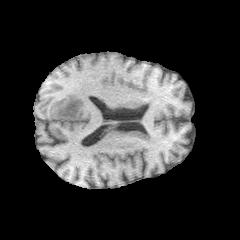glioma: (38, 93, 84, 121)
